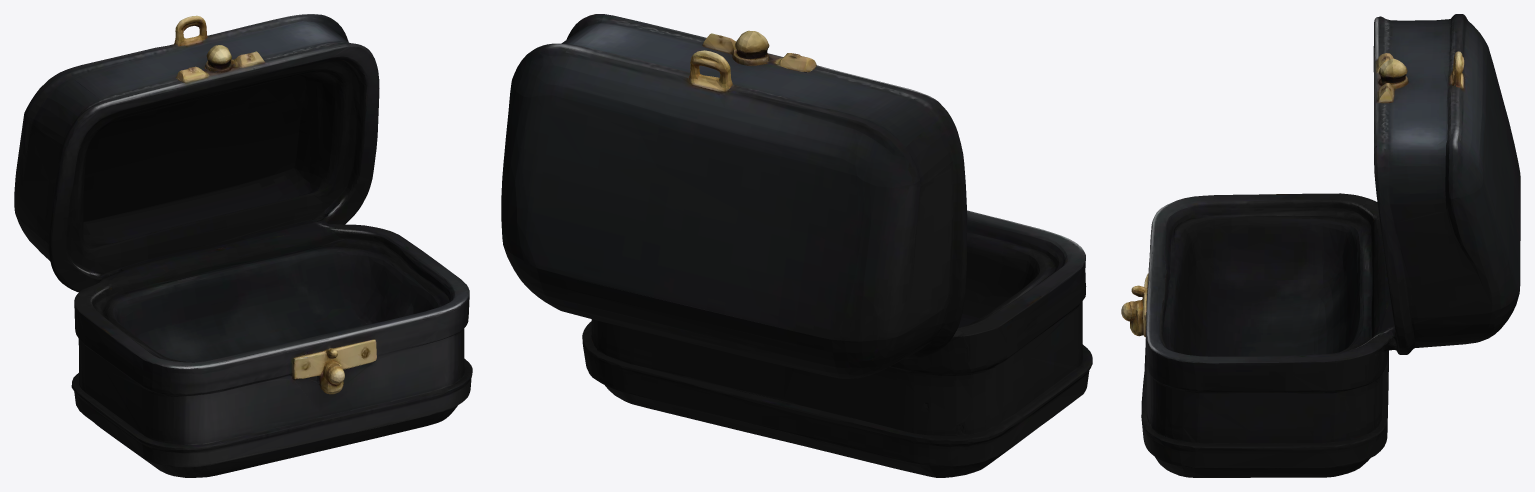
Rendered from black_bag.glb.
The picture shows the model from 3 angles, left to right: view 1: azimuth 30°, elevation 25°; view 2: azimuth 150°, elevation 25°; view 3: azimuth 270°, elevation 25°; orthographic projection. The views are drawn at different scales.
Visible parts, largest first — view 1: geometry_0; view 2: geometry_0; view 3: geometry_0.
Part boxes in pixels (x1,y1,x2,y2): geometry_0: (14, 14, 472, 477); geometry_0: (501, 14, 1092, 477); geometry_0: (1121, 14, 1520, 477).
Size of the model in its own units: 0.9945 by 0.9646 by 0.9845.
1 material, 1 textured.
